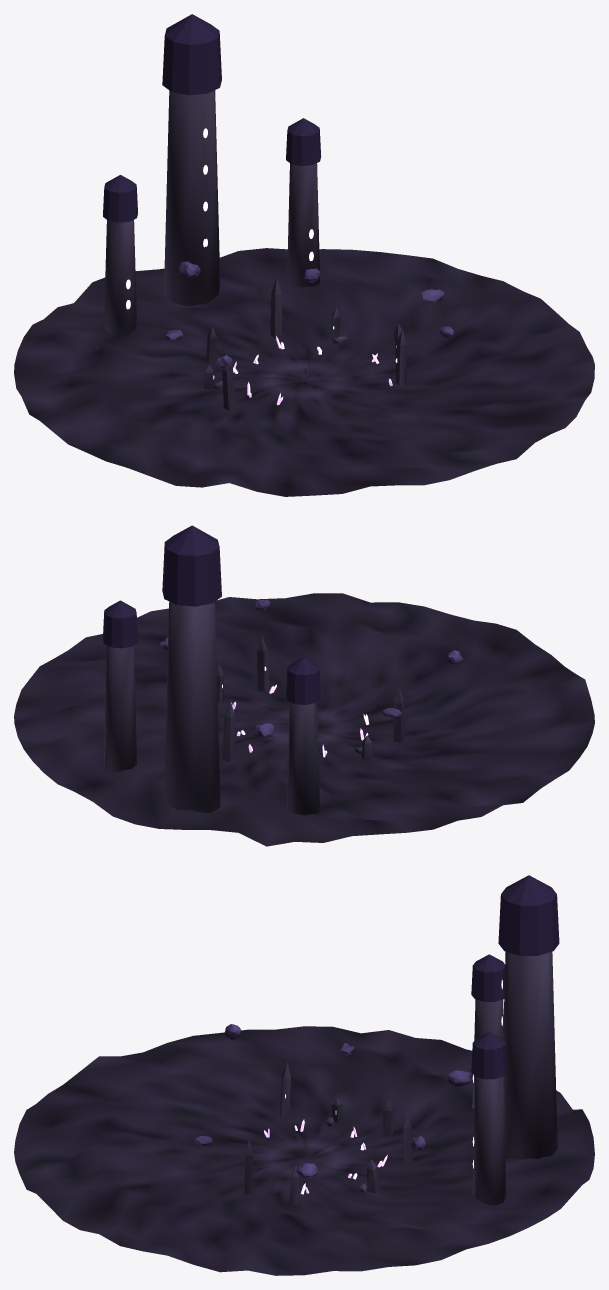
Rendered from arena-shadow-tower.b4844c50d1.glb.
The picture shows the model from 3 angles, top to bottom: view 1: azimuth 30°, elevation 25°; view 2: azimuth 150°, elevation 25°; view 3: azimuth 270°, elevation 25°; orthographic projection.
Parts seen in each view (by area): view 1: Arena; view 2: Arena; view 3: Arena.
Boxes of the visible parts, x1,y1,x2,y2 form: Arena: (14,14,594,496); Arena: (14,525,594,846); Arena: (14,875,594,1275).
Bounding box in the file's own units: 44 × 23.79 × 44.
